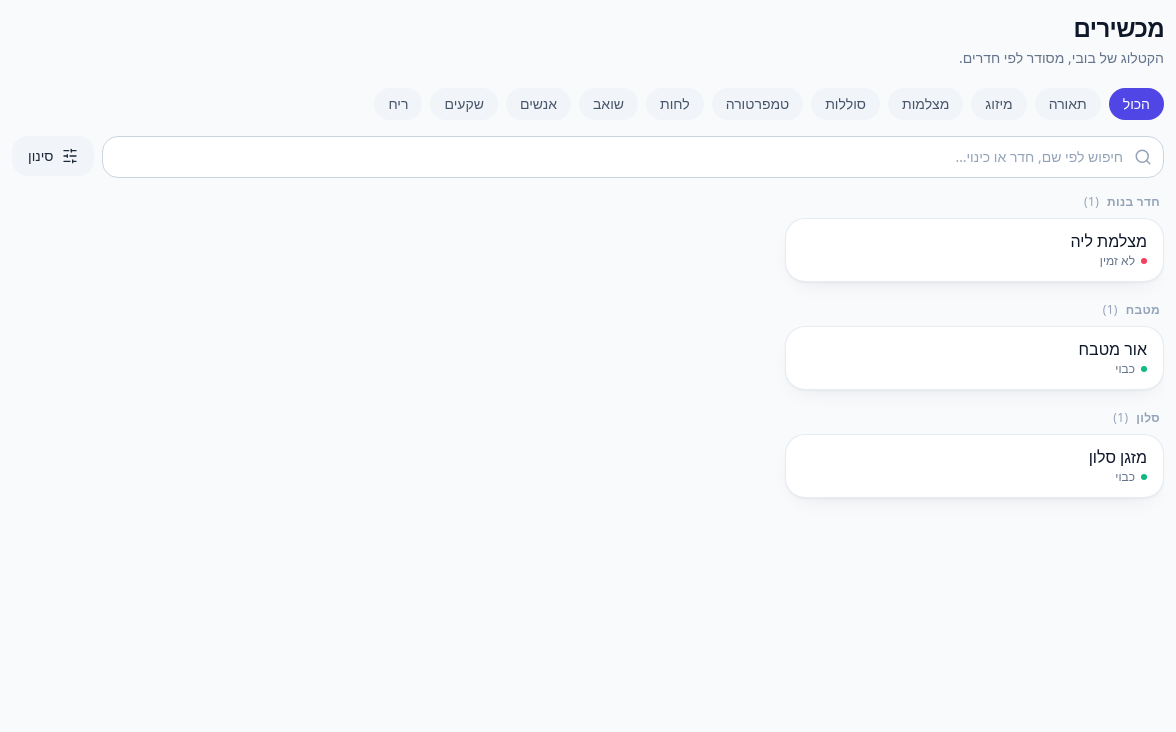
DevicesPage › filters by alias as the user types
This screenshot has width=1176, height=732.
Expected: the text "אור מטבח" is shown, [1078,338,1147,360]
Type "המזגן בסלון" into the search field named "חיפוש מכשירים". click: (633,157)
box: [102,136,1164,178]
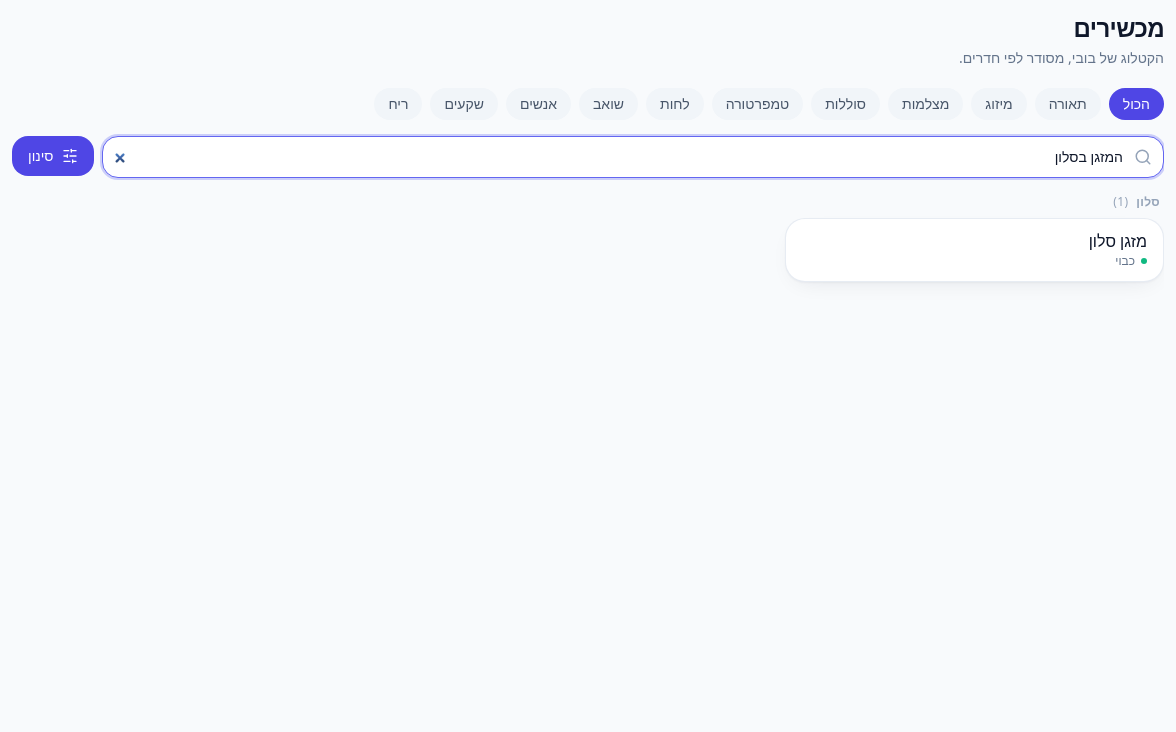
Expected: the text "מזגן סלון" is shown, [1089,230,1147,252]
Expected: the button "אור מטבח" is gone
